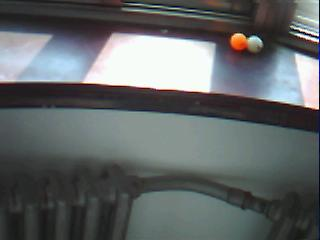oball: (230, 33, 247, 50)
